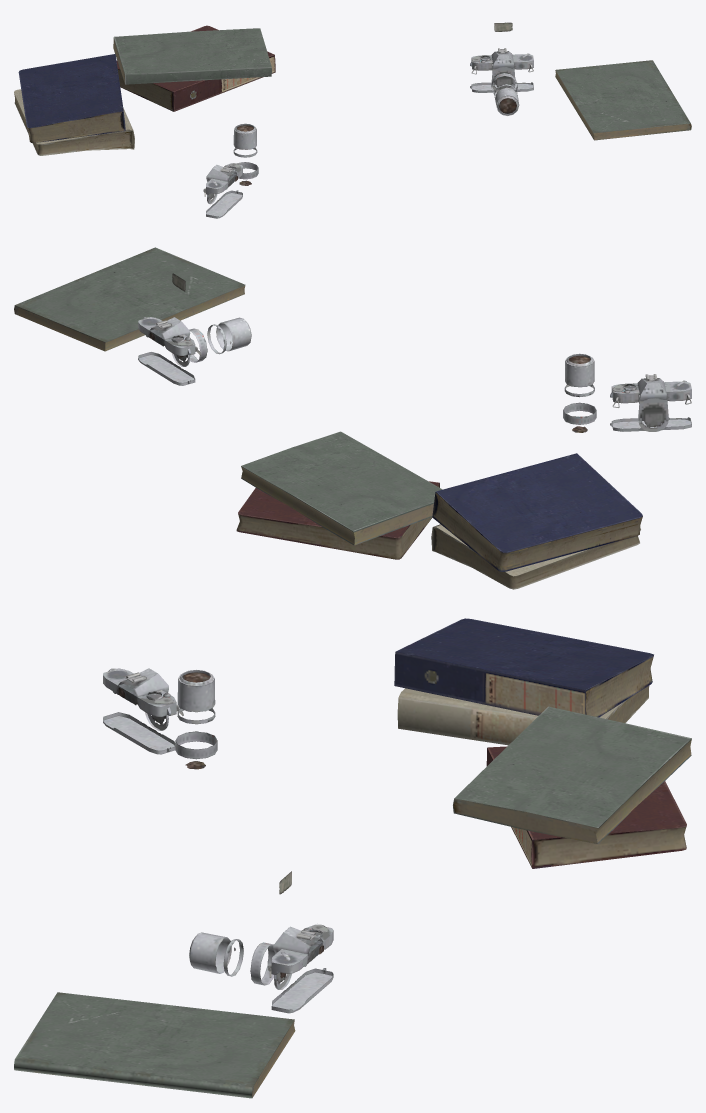
File: sm39_003_hospitaldeskset01a.fbx
The picture shows the model from 3 angles, top to bottom: view 1: azimuth 30°, elevation 25°; view 2: azimuth 150°, elevation 25°; view 3: azimuth 270°, elevation 25°; orthographic projection. The views are drawn at different scales.
Visible parts, largest first — view 1: LOD_1_Group_10_Sub_1__sm36_007_PaperWork01A_A_Mat, LOD_1_Group_9_Sub_1__sm36_007_PaperWork01A_A_Mat, LOD_1_Group_8_Sub_1__sm36_007_PaperWork01A_A_Mat, LOD_1_Group_0_Sub_1__sm32_002_ReflexCamera01A_A_Mat, LOD_1_Group_12_Sub_1__sm36_007_PaperWork01A_A_Mat, LOD_1_Group_11_Sub_1__sm36_007_PaperWork01A_A_Mat, LOD_1_Group_1_Sub_1__sm32_002_ReflexCamera01A_A_Mat, LOD_1_Group_5_Sub_1__sm32_002_ReflexCamera01A_A_Mat; view 2: LOD_1_Group_9_Sub_1__sm36_007_PaperWork01A_A_Mat, LOD_1_Group_8_Sub_1__sm36_007_PaperWork01A_A_Mat, LOD_1_Group_10_Sub_1__sm36_007_PaperWork01A_A_Mat, LOD_1_Group_12_Sub_1__sm36_007_PaperWork01A_A_Mat, LOD_1_Group_0_Sub_1__sm32_002_ReflexCamera01A_A_Mat, LOD_1_Group_11_Sub_1__sm36_007_PaperWork01A_A_Mat, LOD_1_Group_1_Sub_1__sm32_002_ReflexCamera01A_A_Mat, LOD_1_Group_5_Sub_1__sm32_002_ReflexCamera01A_A_Mat; view 3: LOD_1_Group_10_Sub_1__sm36_007_PaperWork01A_A_Mat, LOD_1_Group_8_Sub_1__sm36_007_PaperWork01A_A_Mat, LOD_1_Group_9_Sub_1__sm36_007_PaperWork01A_A_Mat, LOD_1_Group_12_Sub_1__sm36_007_PaperWork01A_A_Mat, LOD_1_Group_0_Sub_1__sm32_002_ReflexCamera01A_A_Mat, LOD_1_Group_11_Sub_1__sm36_007_PaperWork01A_A_Mat, LOD_1_Group_1_Sub_1__sm32_002_ReflexCamera01A_A_Mat, LOD_1_Group_5_Sub_1__sm32_002_ReflexCamera01A_A_Mat.
Boxes of the visible parts, x1,y1,x2,y2 form: LOD_1_Group_10_Sub_1__sm36_007_PaperWork01A_A_Mat: (555,60,691,140); LOD_1_Group_9_Sub_1__sm36_007_PaperWork01A_A_Mat: (18,54,125,142); LOD_1_Group_8_Sub_1__sm36_007_PaperWork01A_A_Mat: (113,28,271,84); LOD_1_Group_0_Sub_1__sm32_002_ReflexCamera01A_A_Mat: (470,22,533,115); LOD_1_Group_12_Sub_1__sm36_007_PaperWork01A_A_Mat: (116,25,275,111); LOD_1_Group_11_Sub_1__sm36_007_PaperWork01A_A_Mat: (14,89,134,155); LOD_1_Group_1_Sub_1__sm32_002_ReflexCamera01A_A_Mat: (203,163,242,218); LOD_1_Group_5_Sub_1__sm32_002_ReflexCamera01A_A_Mat: (233,123,258,185); LOD_1_Group_9_Sub_1__sm36_007_PaperWork01A_A_Mat: (432,453,642,571); LOD_1_Group_8_Sub_1__sm36_007_PaperWork01A_A_Mat: (241,431,442,545); LOD_1_Group_10_Sub_1__sm36_007_PaperWork01A_A_Mat: (14,247,245,351); LOD_1_Group_12_Sub_1__sm36_007_PaperWork01A_A_Mat: (236,481,439,559); LOD_1_Group_0_Sub_1__sm32_002_ReflexCamera01A_A_Mat: (138,273,251,385); LOD_1_Group_11_Sub_1__sm36_007_PaperWork01A_A_Mat: (431,524,640,589); LOD_1_Group_1_Sub_1__sm32_002_ReflexCamera01A_A_Mat: (610,374,691,431); LOD_1_Group_5_Sub_1__sm32_002_ReflexCamera01A_A_Mat: (563,353,596,432); LOD_1_Group_10_Sub_1__sm36_007_PaperWork01A_A_Mat: (14,992,295,1098); LOD_1_Group_8_Sub_1__sm36_007_PaperWork01A_A_Mat: (453,706,691,843); LOD_1_Group_9_Sub_1__sm36_007_PaperWork01A_A_Mat: (394,618,653,717); LOD_1_Group_12_Sub_1__sm36_007_PaperWork01A_A_Mat: (486,746,686,868); LOD_1_Group_0_Sub_1__sm32_002_ReflexCamera01A_A_Mat: (189,871,333,1013); LOD_1_Group_11_Sub_1__sm36_007_PaperWork01A_A_Mat: (397,686,649,745); LOD_1_Group_1_Sub_1__sm32_002_ReflexCamera01A_A_Mat: (103,668,183,754); LOD_1_Group_5_Sub_1__sm32_002_ReflexCamera01A_A_Mat: (175,670,217,769).
Bounding box in the file's own units: 1.56 × 0.1911 × 1.02.
